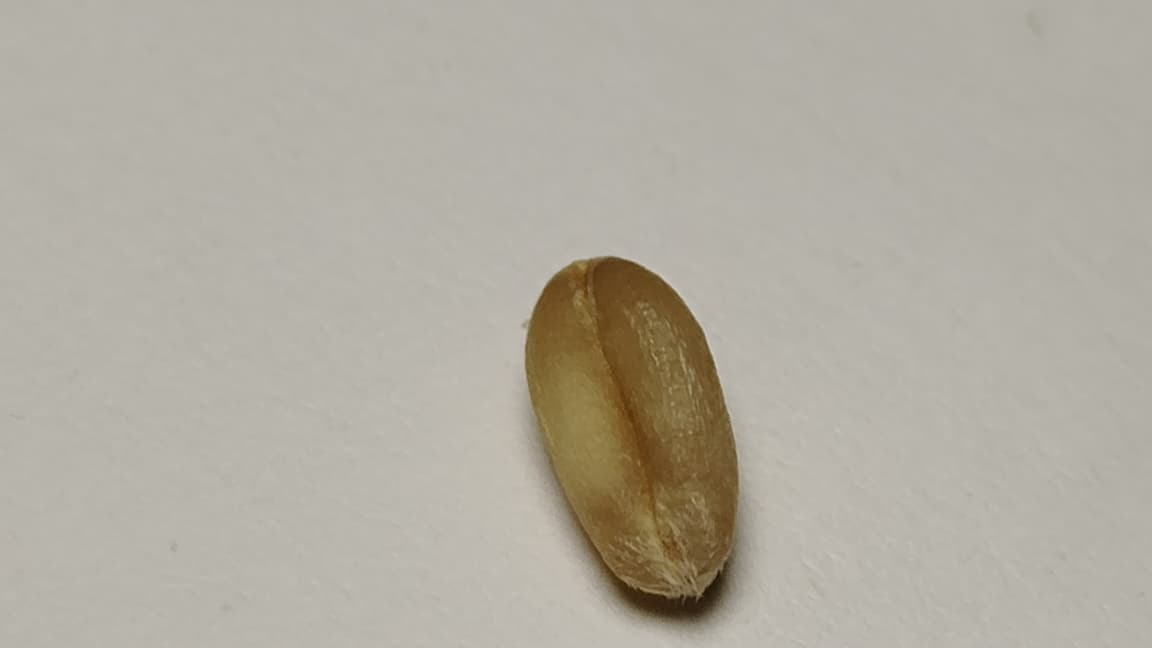healthy: (527, 257, 737, 596)
